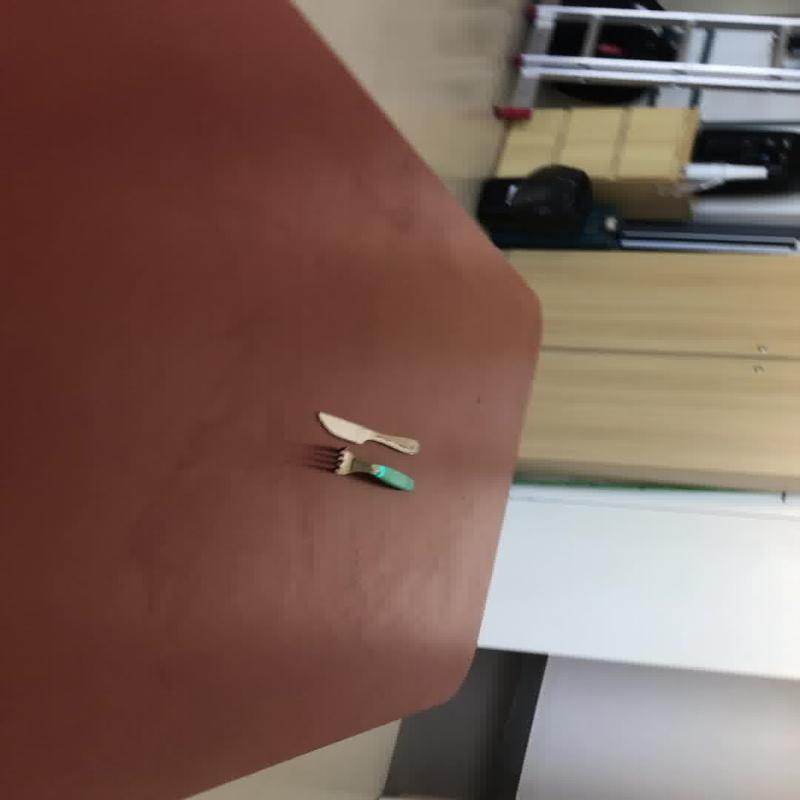fork: (306, 443, 414, 491)
knife: (314, 410, 420, 454)
